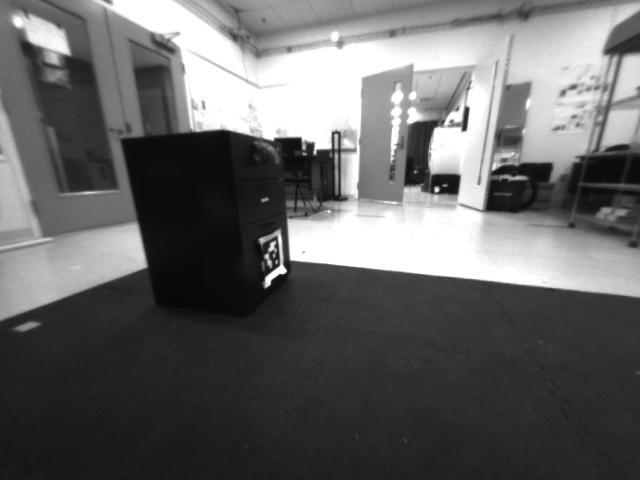door_handle: (103, 123, 125, 138)
drawer: (247, 138, 285, 170)
